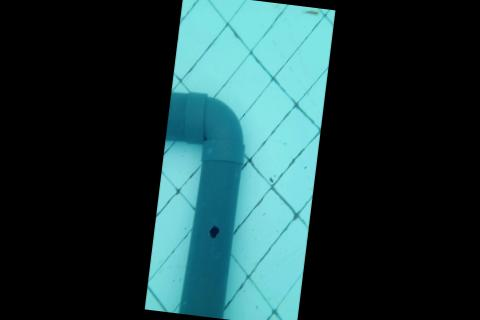kebocoran: (207, 223, 221, 242)
